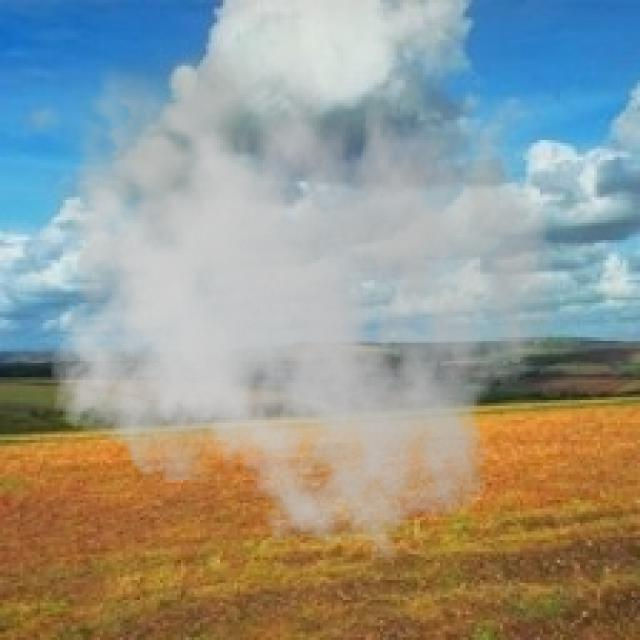Smoke: (34, 31, 557, 563)
